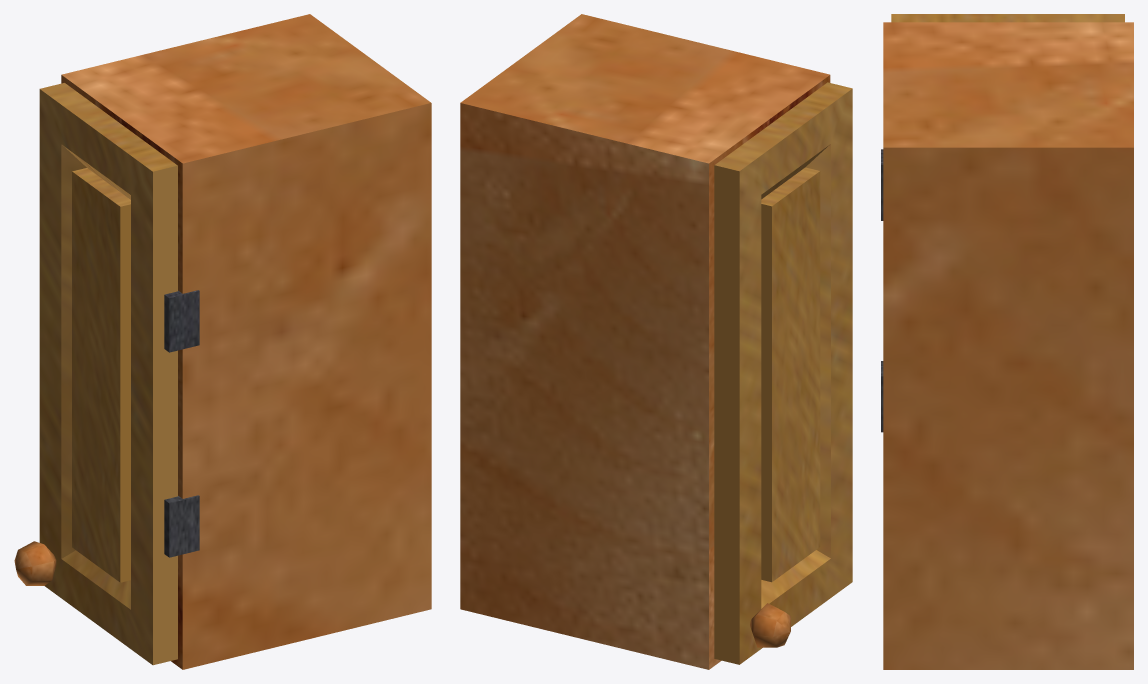
The model's file is kitchen  wall store4.FBX.
3 views of the same model, side by side, from view 1: azimuth 30°, elevation 25°; view 2: azimuth 150°, elevation 25°; view 3: azimuth 270°, elevation 25° (orthographic). The views are drawn at different scales.
Visible parts, largest first — view 1: Box001, Object003, Box002, Object002; view 2: Box001, Object003, Object002; view 3: Box001, Object003, Box002.
Part boxes in pixels (x1=…): Box001: x1=61, y1=14, x2=431, y2=669; Object003: x1=39, y1=83, x2=177, y2=665; Box002: x1=164, y1=290, x2=199, y2=557; Object002: x1=14, y1=541, x2=56, y2=585; Box001: x1=460, y1=14, x2=830, y2=669; Object003: x1=714, y1=82, x2=852, y2=664; Object002: x1=750, y1=603, x2=790, y2=647; Box001: x1=883, y1=22, x2=1133, y2=669; Object003: x1=891, y1=14, x2=1124, y2=22; Box002: x1=881, y1=149, x2=883, y2=432.
Size of the model in its own units: 41.79 by 64.8 by 28.44.
Materials: 4 (4 with a texture image).
